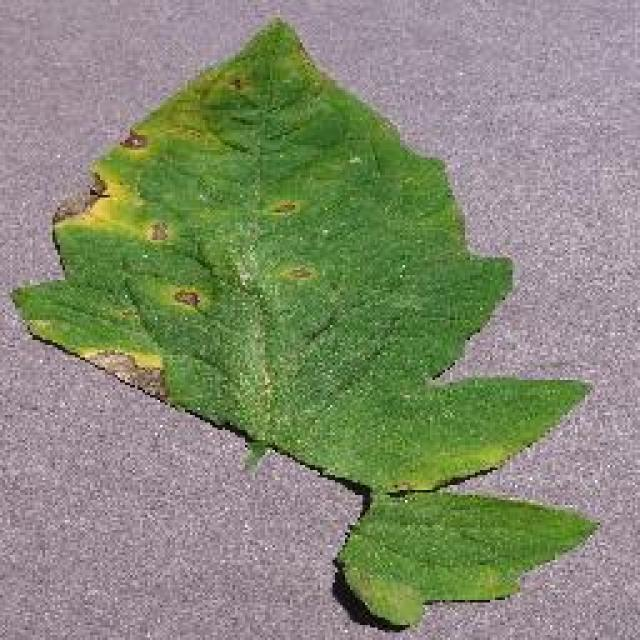Tomato Septoria spot leaf: (11, 14, 594, 488)
